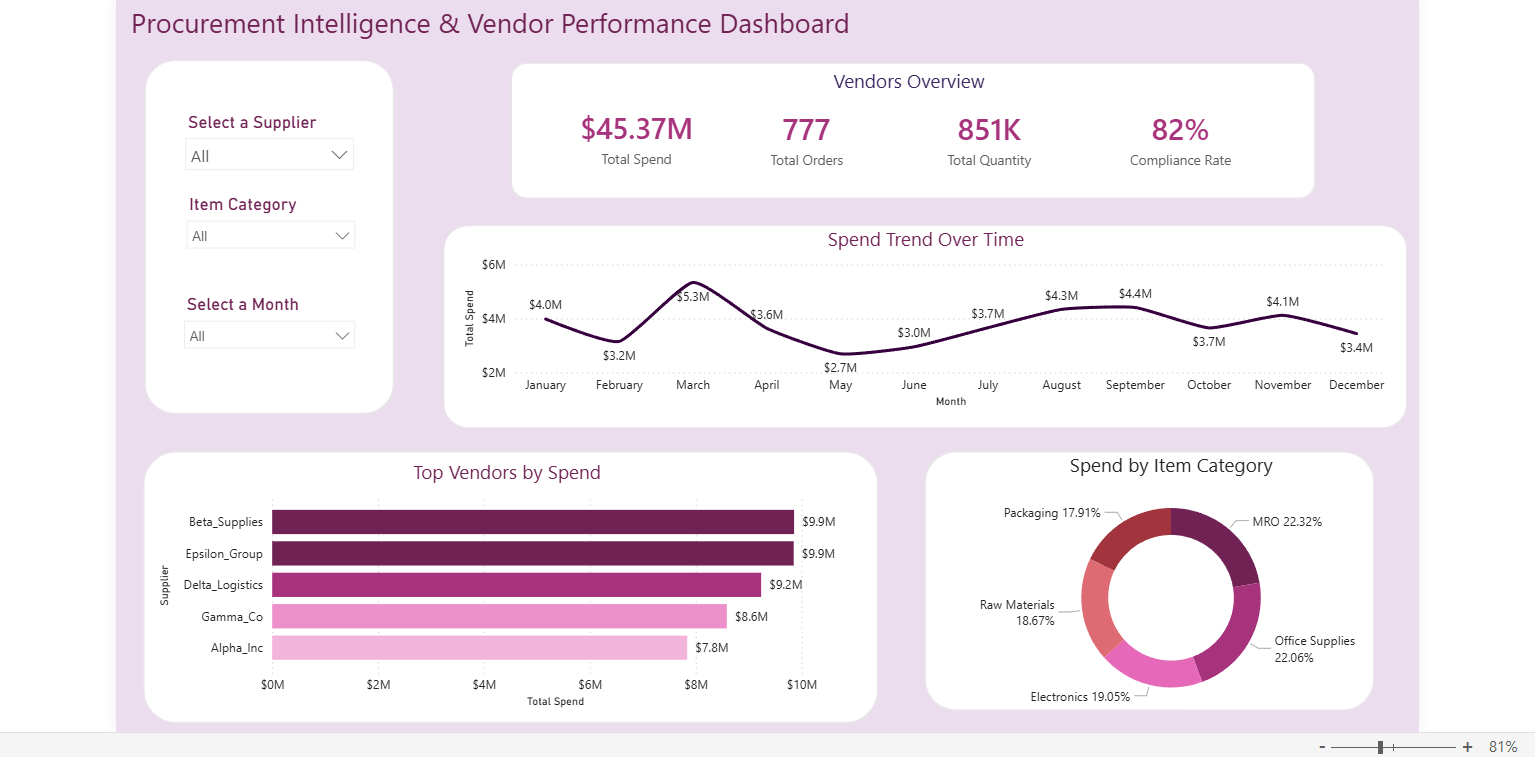

This screenshot's page, from the dashboard's own definition file:
{"tool":"powerbi","page":{"name":"Overview","canvas":[1280,720],"ordinal":0},"visuals":[{"type":"textbox","box":[9.8,0,767.9,53.8],"z":0},{"type":"shape","box":[387.9,62.6,789.9,133.3],"z":1000},{"type":"cardVisual","fields":{"Data":["Key Measures.Total Spend"]},"box":[402.3,81.4,217.7,110.1],"z":2000},{"type":"shape","box":[27.9,59.9,244.6,347.3],"z":2500},{"type":"cardVisual","fields":{"Data":["Key Measures.Total Orders"]},"box":[589.4,81.4,178.5,110.1],"z":3000},{"type":"cardVisual","fields":{"Data":["Key Measures.Total Quantity"]},"box":[769.2,81.4,178.5,110.1],"z":4000},{"type":"cardVisual","fields":{"Data":["Key Measures.Compliance Rate %"]},"box":[946.5,81.4,198.1,110.1],"z":5000},{"type":"slicer","fields":{"Values":["Procurement_cleaned.Supplier"]},"box":[57.2,105.2,185.9,81.9],"z":6000},{"type":"shape","box":[321.6,222.6,946.5,199.3],"z":6500},{"type":"slicer","fields":{"Values":["Procurement_cleaned.Item_Category"]},"box":[58.5,187.1,185.9,79.5],"z":7000},{"type":"slicer","fields":{"Values":["Procurement_cleaned.Order_Date.Variation.Date Hierarchy.Month"]},"box":[56,284.9,188.3,74.6],"z":8000},{"type":"shape","box":[26.9,443.9,721.5,266.6],"z":8500},{"type":"lineChart","title":"Spend Trend Over Time","fields":{"Category":["Procurement_cleaned.Order_Date.Variation.Date Hierarchy.Month"],"Y":["Key Measures.Total Spend"]},"box":[336.3,222.6,918.3,184.6],"z":9000},{"type":"shape","box":[794.8,443.9,441.4,254.3],"z":9500},{"type":"clusteredBarChart","title":"Top Vendors by Spend","fields":{"Category":["Procurement_cleaned.Supplier"],"Y":["Key Measures.Total Spend"]},"box":[36.7,452.4,694.6,249.5],"z":10000},{"type":"donutChart","title":"Spend by Item Category","fields":{"Category":["Procurement_cleaned.Item_Category"],"Y":["Key Measures.Total Spend"]},"box":[794.8,443.9,484.2,262.9],"z":11000},{"type":"textbox","box":[699.7,62.6,162.6,44],"z":12000}]}

Visuals, with their boxes on the page's 1280x720 design canvas (x1, y1, x2, y2). These are canvas units, not pixel positions in the 1535x757 screenshot, which may show the page scaled, cropped or inside an application window:
textbox: 10,0,778,54
shape: 388,63,1178,196
cardVisual - Key Measures.Total Spend: 402,81,620,192
shape: 28,60,272,407
cardVisual - Key Measures.Total Orders: 589,81,768,192
cardVisual - Key Measures.Total Quantity: 769,81,948,192
cardVisual - Key Measures.Compliance Rate %: 946,81,1145,192
slicer - Procurement_cleaned.Supplier: 57,105,243,187
shape: 322,223,1268,422
slicer - Procurement_cleaned.Item_Category: 58,187,244,267
slicer - Procurement_cleaned.Order_Date.Variation.Date Hierarchy.Month: 56,285,244,360
shape: 27,444,748,710
"Spend Trend Over Time" lineChart: 336,223,1255,407
shape: 795,444,1236,698
"Top Vendors by Spend" clusteredBarChart: 37,452,731,702
"Spend by Item Category" donutChart: 795,444,1279,707
textbox: 700,63,862,107
